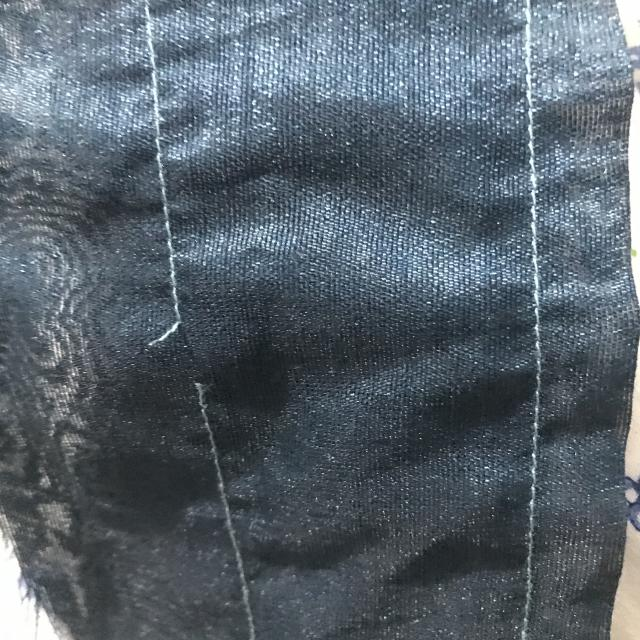broken: (140, 312, 241, 417)
good: (150, 170, 193, 274)
